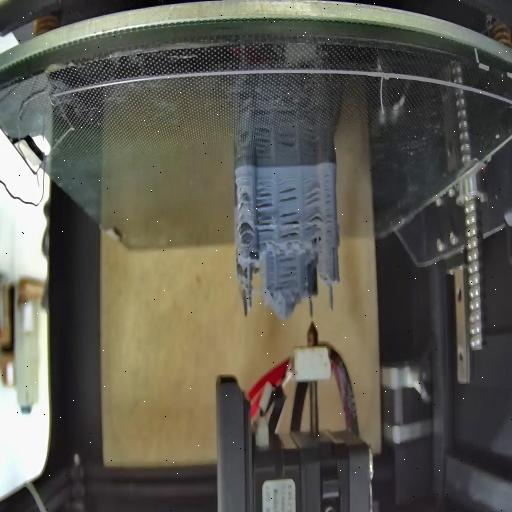cracks: (256, 181, 274, 235), (322, 170, 334, 236), (278, 256, 298, 290), (280, 210, 300, 242), (302, 182, 322, 206), (304, 209, 324, 232), (279, 183, 298, 204), (238, 189, 250, 215), (237, 220, 251, 238), (332, 242, 338, 258)
